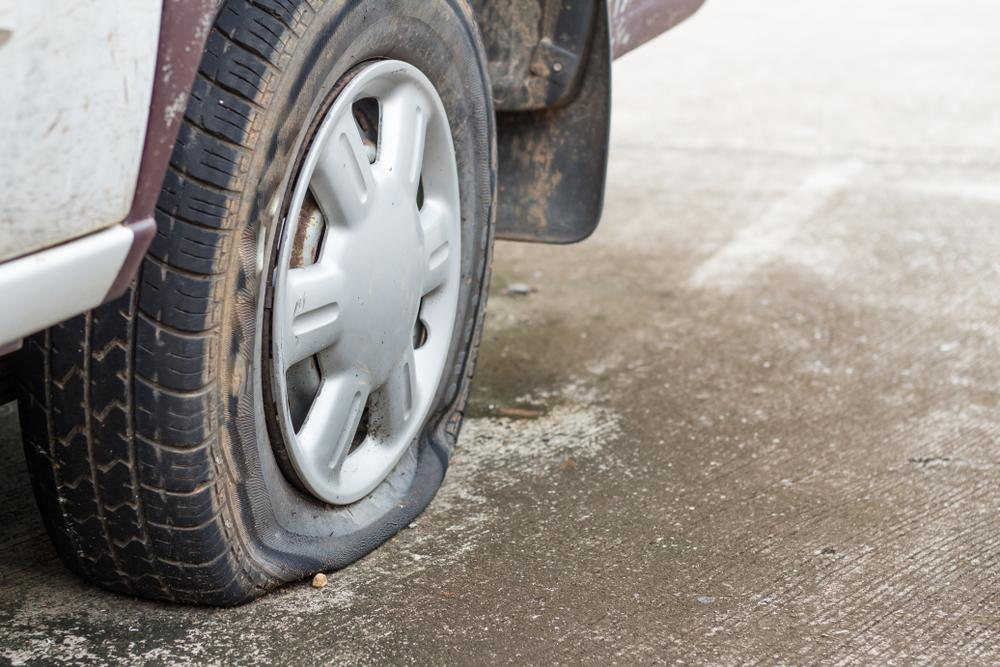tire flat: (19, 0, 501, 609)
